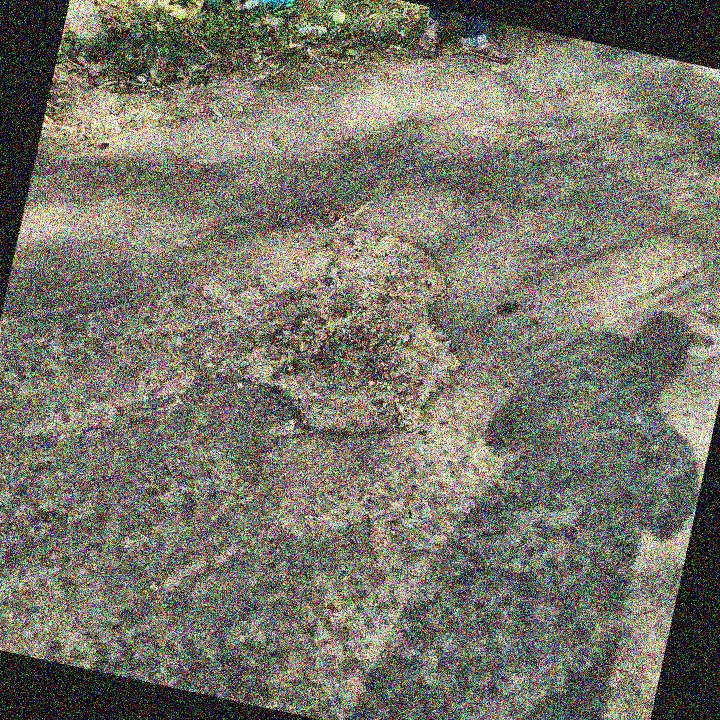pothole: (223, 196, 492, 466), (427, 179, 500, 235)
